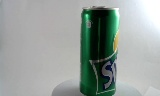sprite: (74, 5, 112, 95)
